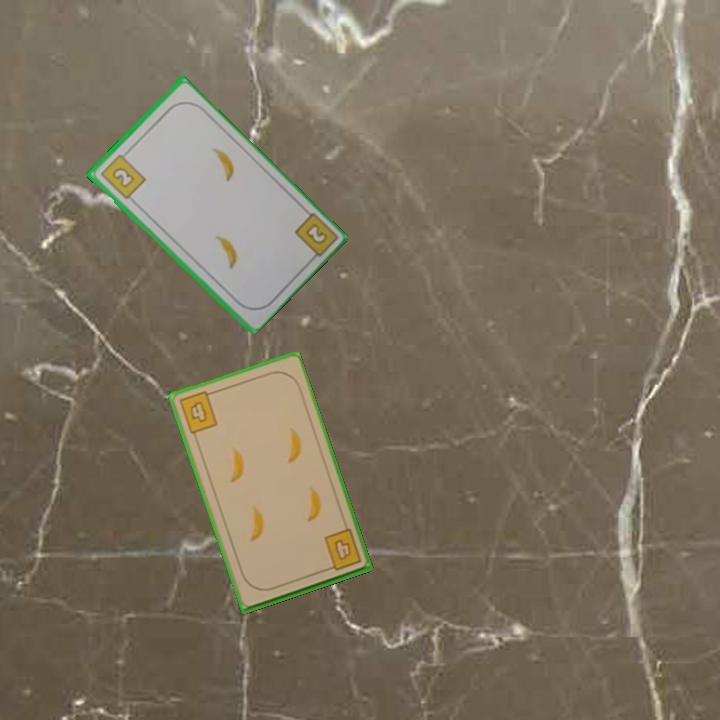2b: (96, 149, 148, 202), (302, 220, 330, 247)
4b: (175, 387, 220, 437), (320, 525, 364, 574)
